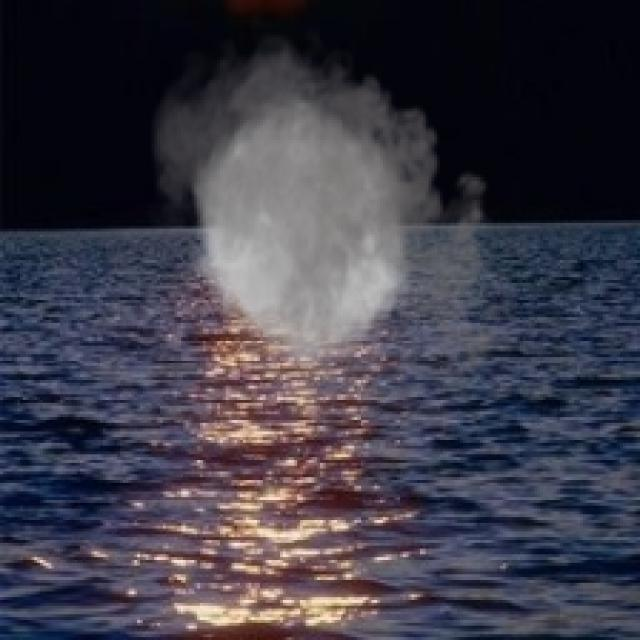Smoke: (137, 20, 512, 440)
